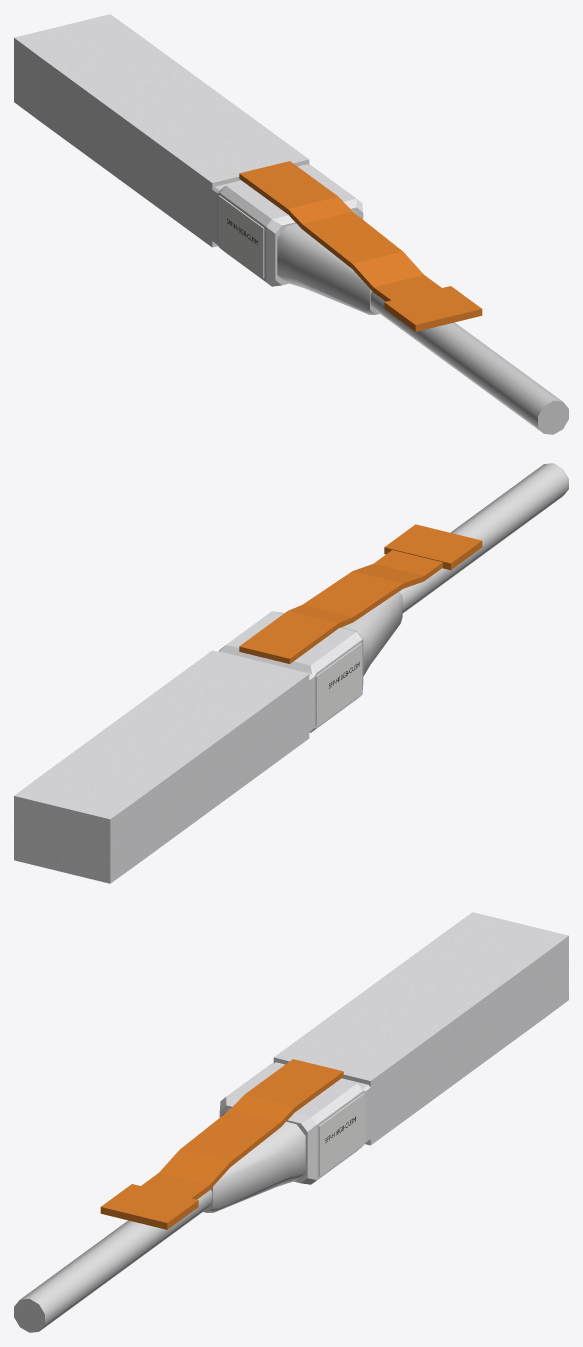
The model's file is SFP-H10GB-CU3M.glb.
The picture shows the model from 3 angles, top to bottom: view 1: azimuth 30°, elevation 25°; view 2: azimuth 150°, elevation 25°; view 3: azimuth 330°, elevation 25°; orthographic projection.
Visible parts, largest first — view 1: SFP-H10GB-CU3M_Head; view 2: SFP-H10GB-CU3M_Head; view 3: SFP-H10GB-CU3M_Head.
Part boxes in pixels (x1=…): SFP-H10GB-CU3M_Head: x1=14, y1=14, x2=568, y2=434; SFP-H10GB-CU3M_Head: x1=14, y1=463, x2=568, y2=883; SFP-H10GB-CU3M_Head: x1=14, y1=912, x2=568, y2=1332.
Bounding box in the file's own units: 0.0141 × 0.0096 × 0.1175.
Materials: 5 (1 with a texture image).
